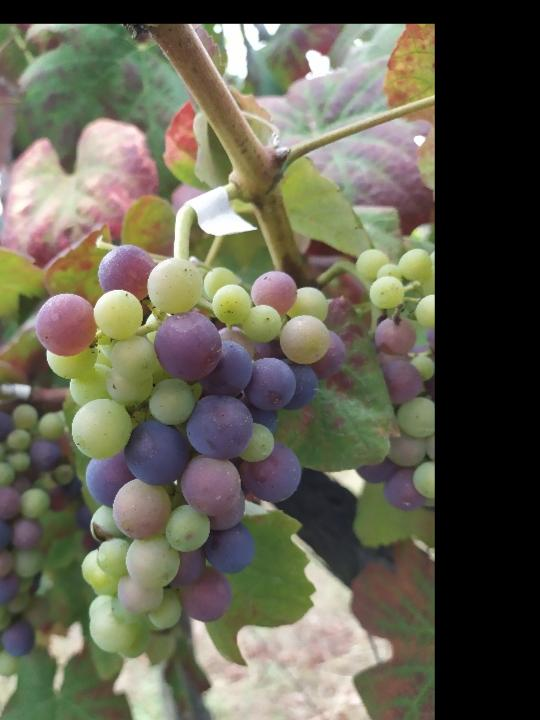grape: (31, 241, 350, 662)
